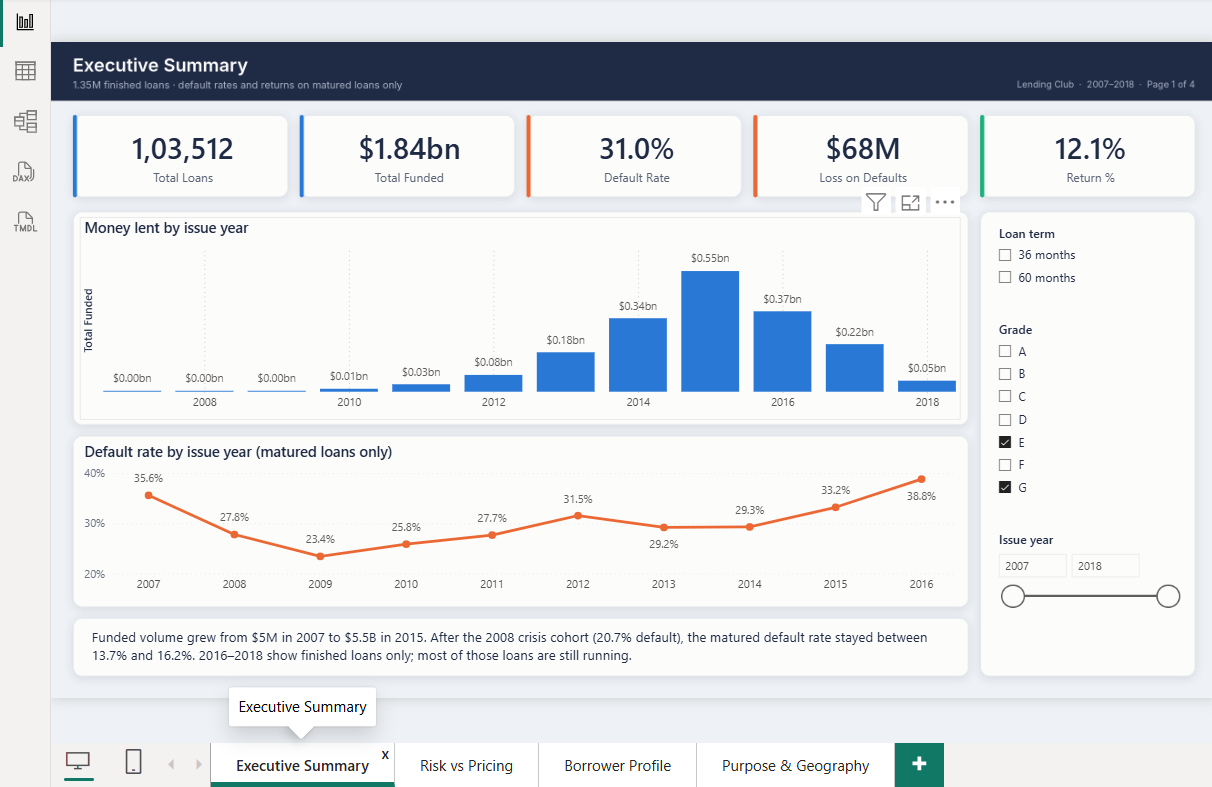

The page's visual inventory and layout, read from the dashboard file:
{"tool":"powerbi","page":{"name":"Executive Summary","canvas":[1280,720],"ordinal":0},"visuals":[{"type":"card","fields":{"Values":["loans.Total Loans"]},"box":[34,86,222,78],"z":0},{"type":"card","fields":{"Values":["loans.Total Funded"]},"box":[283,86,222,78],"z":1000},{"type":"card","fields":{"Values":["loans.Default Rate"]},"box":[532,86,222,78],"z":2000},{"type":"card","fields":{"Values":["loans.Loss on Defaults"]},"box":[781,86,222,78],"z":3000},{"type":"card","fields":{"Values":["loans.Return %"]},"box":[1030,86,222,78],"z":4000},{"type":"clusteredColumnChart","title":"Money lent by issue year","fields":{"Category":["loans.issue_year"],"Y":["loans.Total Funded"]},"box":[32,192,967,222],"z":5000},{"type":"lineChart","title":"Default rate by issue year (matured loans only)","fields":{"Category":["loans.issue_year"],"Y":["loans.Default Rate"]},"box":[32,438,967,176],"z":6000},{"type":"textbox","box":[40,638,955,52],"z":7000},{"type":"slicer","fields":{"Values":["loans.Term Label"]},"box":[1028,196,220,96],"z":8000},{"type":"slicer","fields":{"Values":["loans.grade"]},"box":[1028,302,220,220],"z":9000},{"type":"slicer","fields":{"Values":["loans.issue_year"]},"box":[1028,532,220,150],"z":10000}]}

Visuals, with their boxes on the page's 1280x720 design canvas (x1, y1, x2, y2). These are canvas units, not pixel positions in the 1212x787 screenshot, which may show the page scaled, cropped or inside an application window:
card - loans.Total Loans: pyautogui.locateOnScreen(34, 86, 256, 164)
card - loans.Total Funded: pyautogui.locateOnScreen(283, 86, 505, 164)
card - loans.Default Rate: pyautogui.locateOnScreen(532, 86, 754, 164)
card - loans.Loss on Defaults: pyautogui.locateOnScreen(781, 86, 1003, 164)
card - loans.Return %: pyautogui.locateOnScreen(1030, 86, 1252, 164)
"Money lent by issue year" clusteredColumnChart: pyautogui.locateOnScreen(32, 192, 999, 414)
"Default rate by issue year (matured loans only)" lineChart: pyautogui.locateOnScreen(32, 438, 999, 614)
textbox: pyautogui.locateOnScreen(40, 638, 995, 690)
slicer - loans.Term Label: pyautogui.locateOnScreen(1028, 196, 1248, 292)
slicer - loans.grade: pyautogui.locateOnScreen(1028, 302, 1248, 522)
slicer - loans.issue_year: pyautogui.locateOnScreen(1028, 532, 1248, 682)
